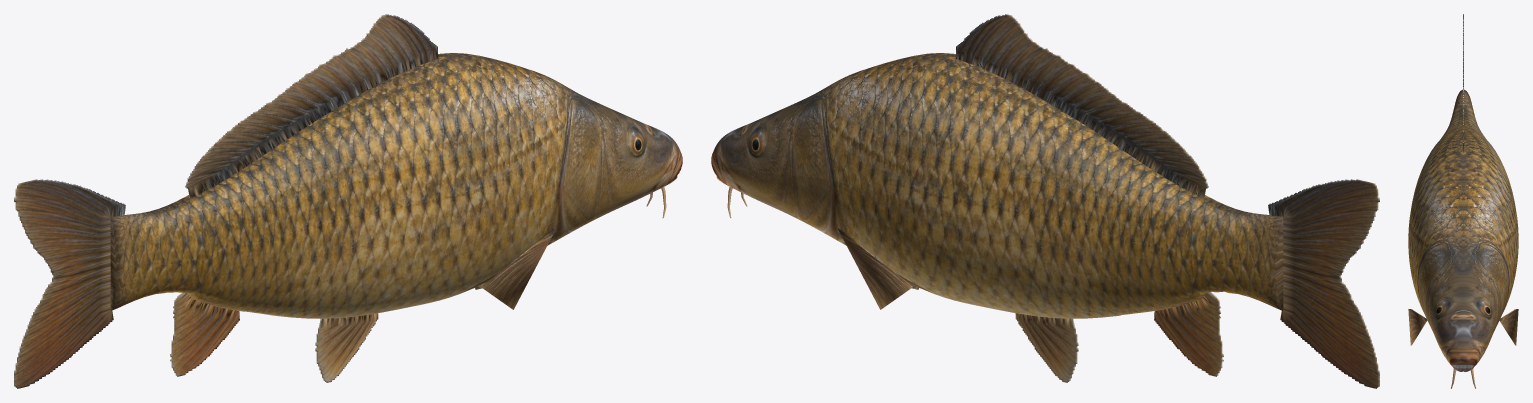
Rendered from carp.glb.
The picture shows the model from 3 angles, left to right: view 1: azimuth 30°, elevation 25°; view 2: azimuth 150°, elevation 25°; view 3: azimuth 270°, elevation 25°; orthographic projection. The views are drawn at different scales.
Parts seen in each view (by area): view 1: carp_realistic.003; view 2: carp_realistic.003; view 3: carp_realistic.003.
Boxes of the visible parts, x1,y1,x2,y2 form: carp_realistic.003: [14, 14, 682, 388]; carp_realistic.003: [711, 14, 1379, 388]; carp_realistic.003: [1408, 14, 1518, 388].
Bounding box in the file's own units: 1 × 0.5075 × 0.1895.
Materials: 3 (3 with a texture image).
